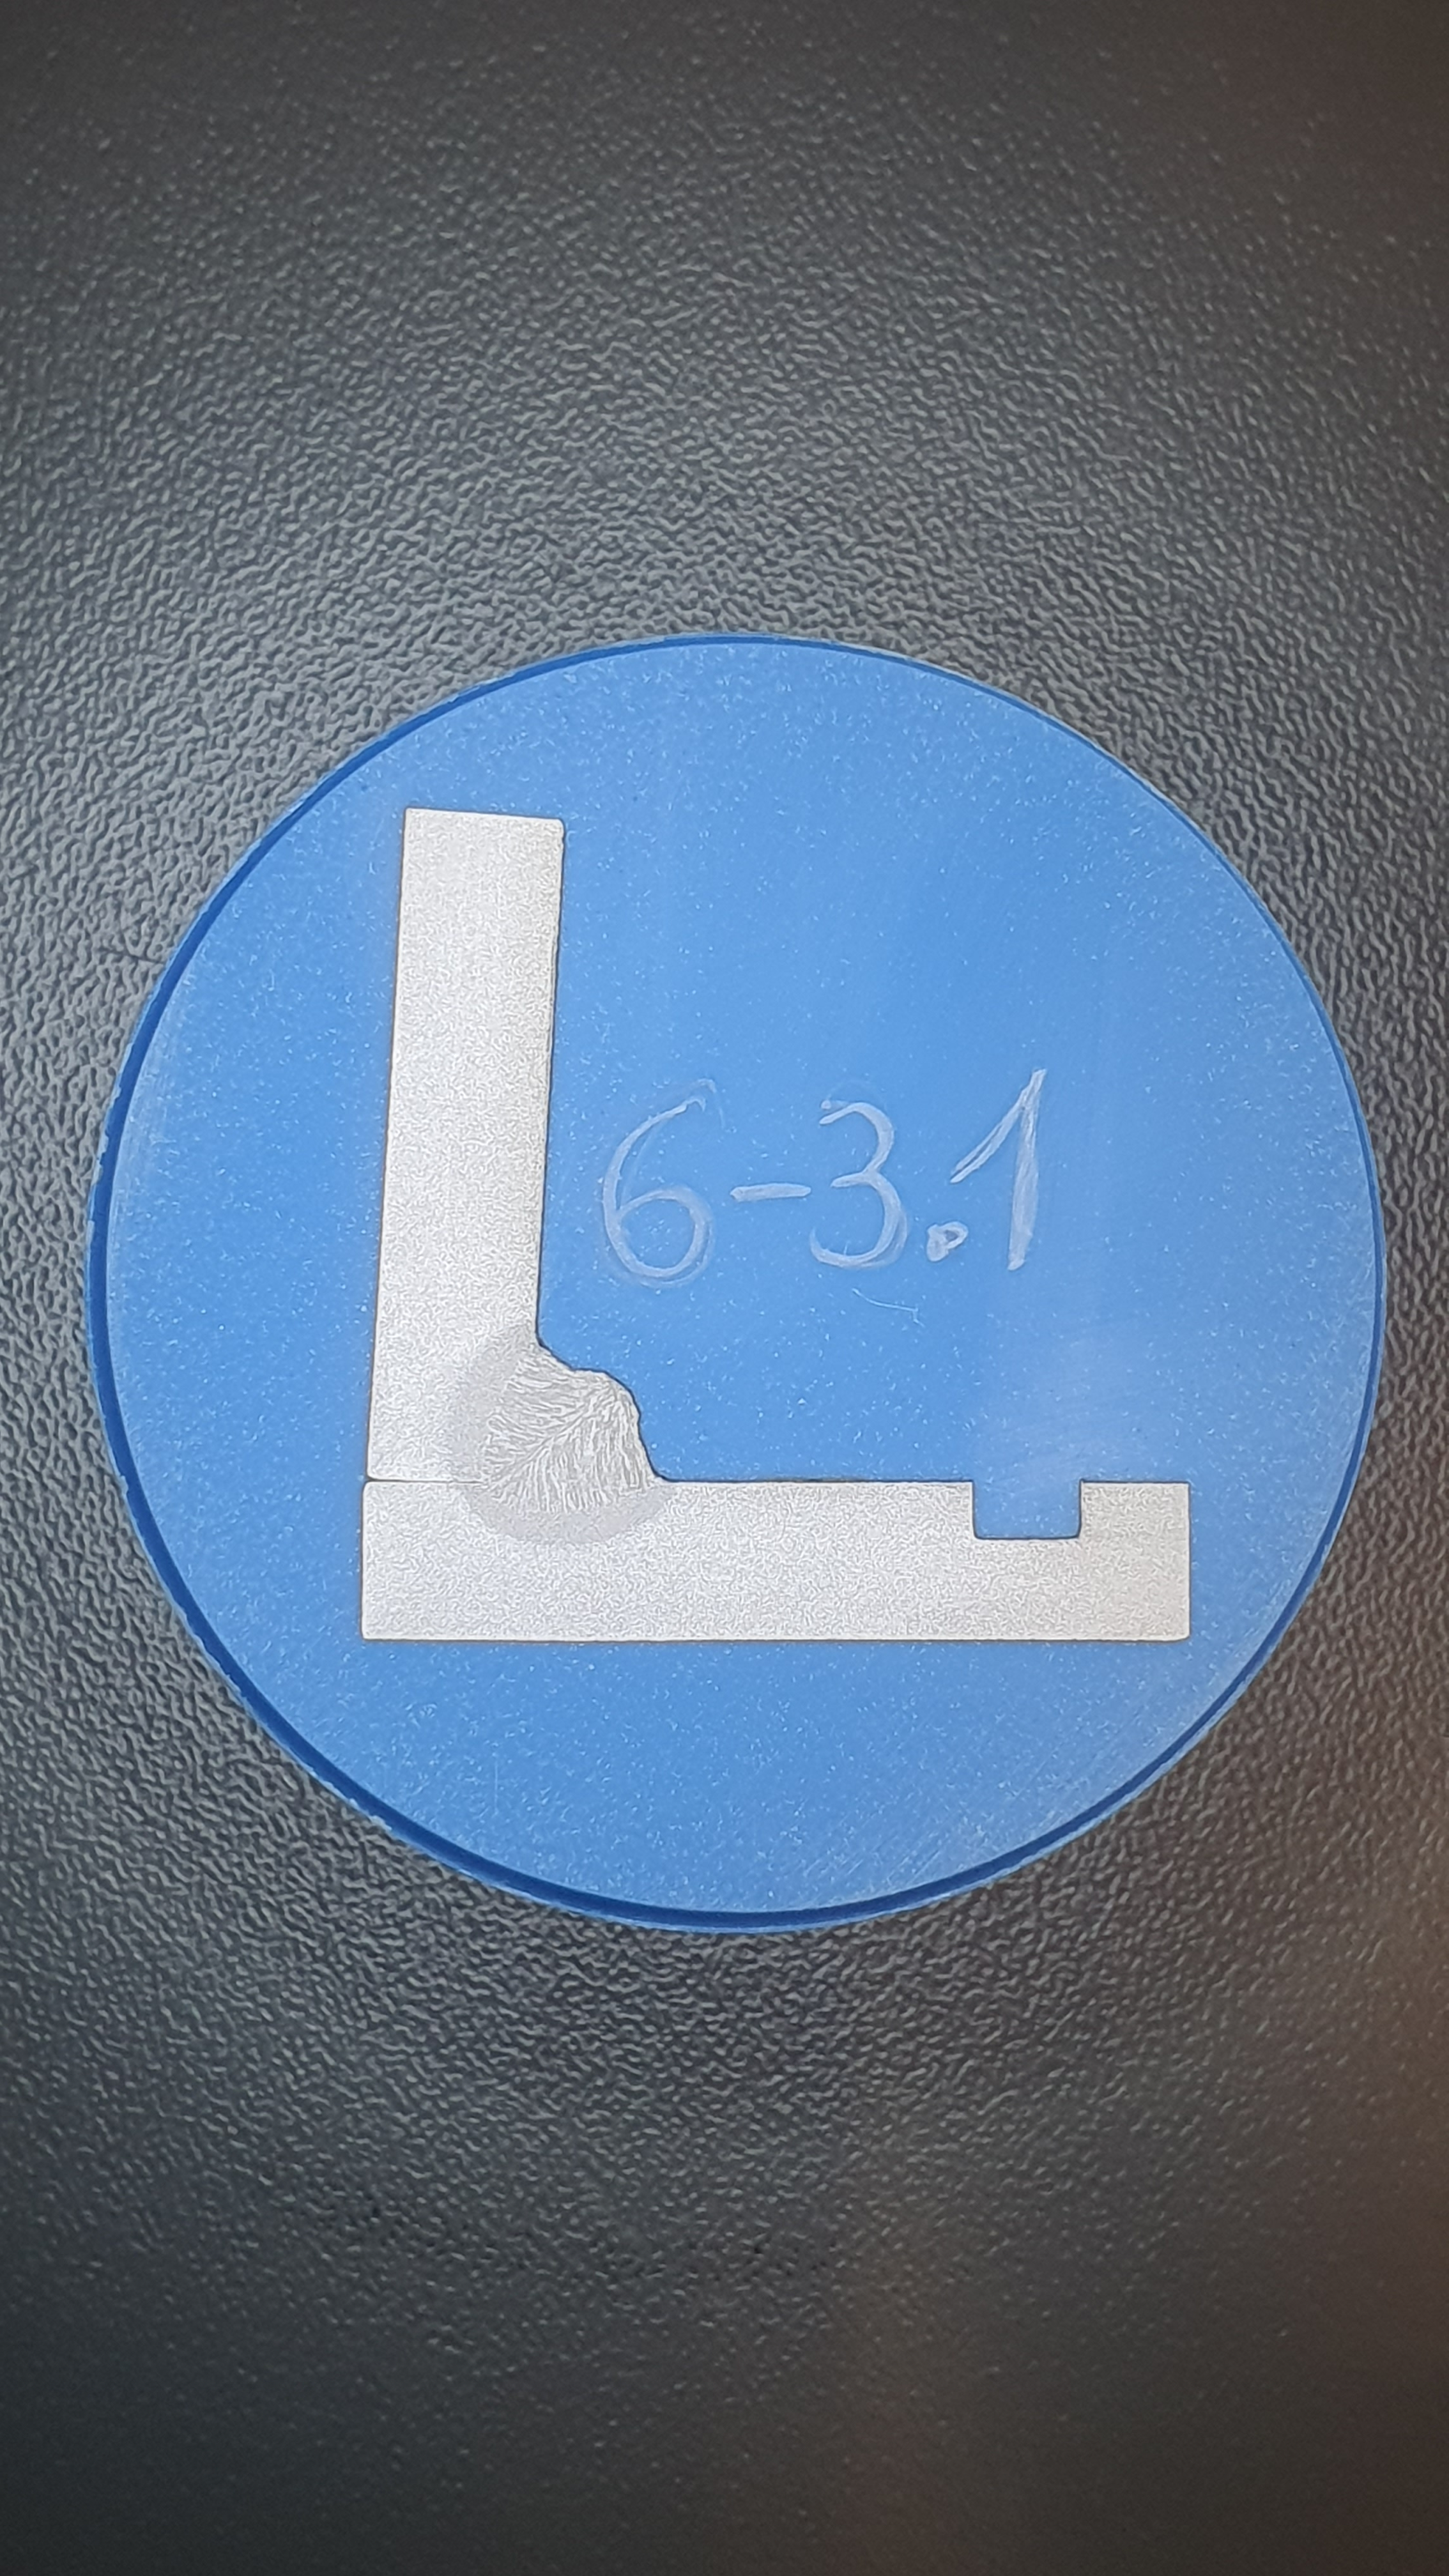Fusion: (479, 1341, 672, 1514)
Hintergrund: (106, 642, 1375, 1913)
Metall: (359, 809, 1189, 1640)
Nebenbereich: (446, 1325, 678, 1548)
